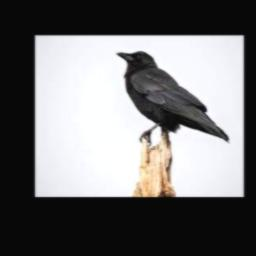Crow: (114, 51, 228, 143)
